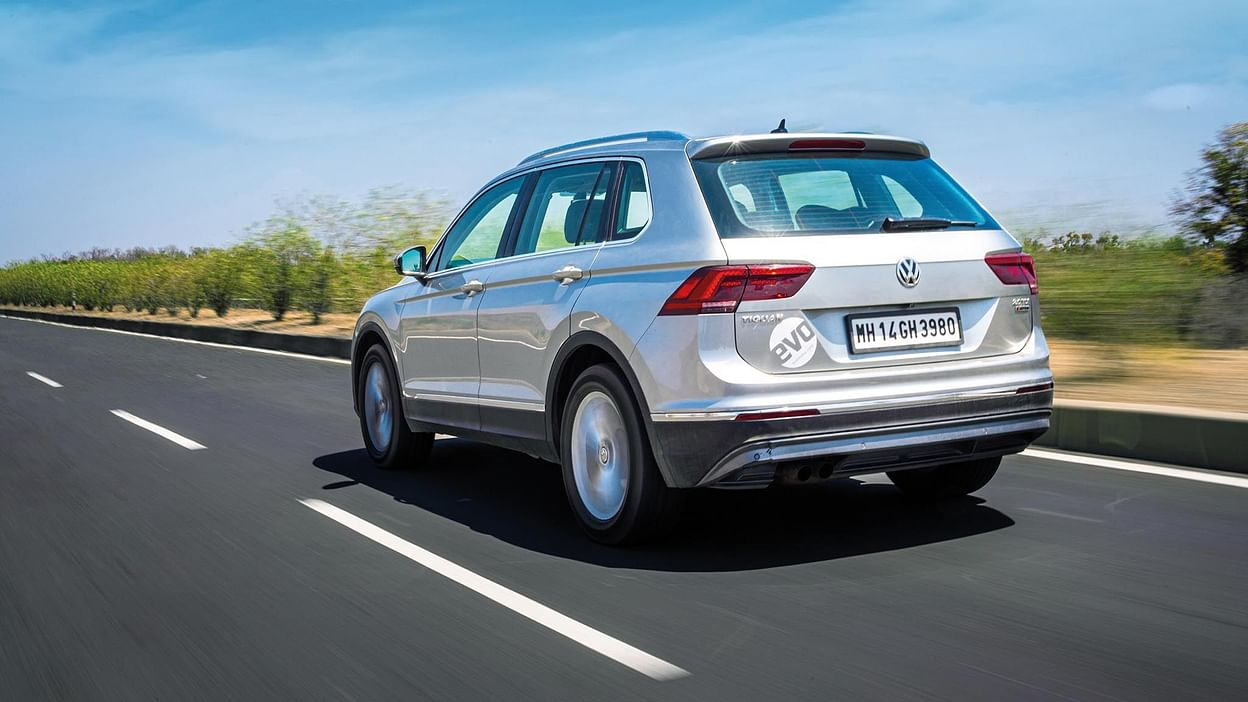car: (354, 130, 1056, 524)
